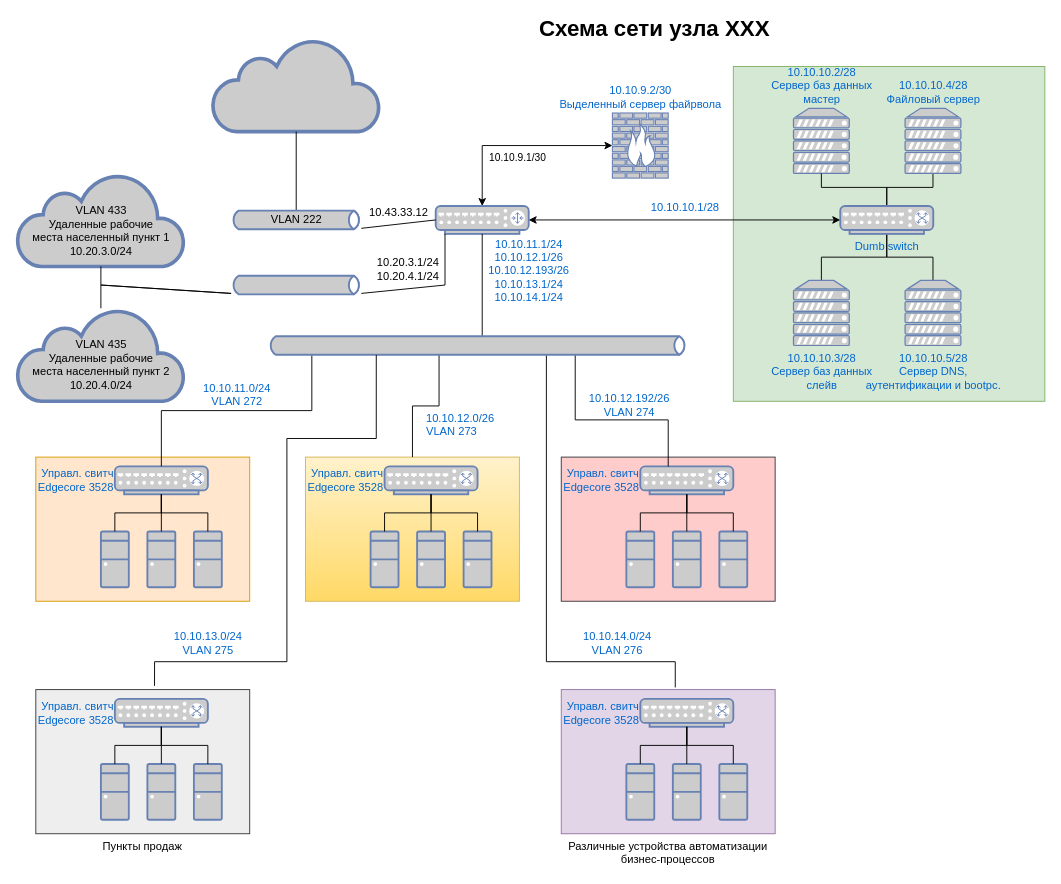
Some shapes in this 1061 by 884 pixel diagram are drawn without their labels. The box of each missing label's shape, as (x1, y1, x2, y2) in pixels:
DMZ: (732, 66, 1045, 401)
ISP MPLS: (211, 37, 380, 132)
VLAN 272,273,274,275.276: (267, 335, 687, 355)
VLAN 433,435: (230, 270, 362, 299)
Выделенный сервер Linux для маршрутизации: (434, 205, 529, 234)
Кластеры сбора предбиллинга ААТС: (560, 456, 775, 601)
Мониторинг и управление сетью ТСОП: (305, 456, 519, 601)
Пользователи: (35, 456, 250, 601)
